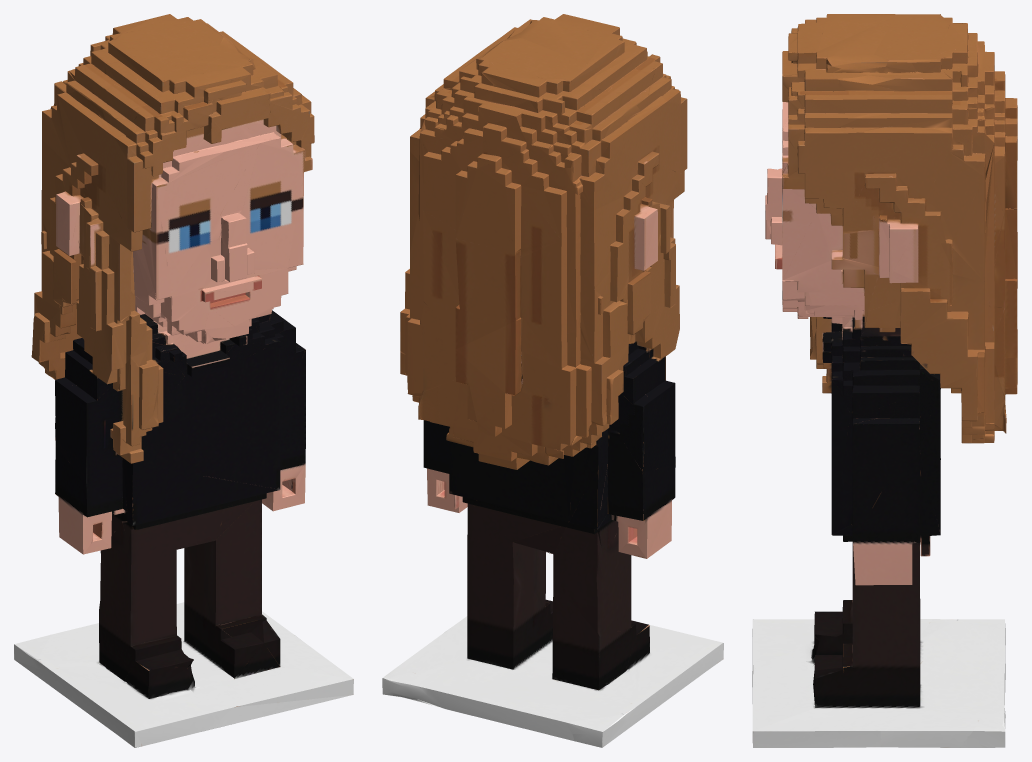
File: clara.glb
3 views of the same model, side by side, from view 1: azimuth 30°, elevation 25°; view 2: azimuth 150°, elevation 25°; view 3: azimuth 270°, elevation 25° (orthographic). The views are drawn at different scales.
Bounding box in the file's own units: 0.6989 × 1.9 × 0.6986.
1 material, 1 textured.
